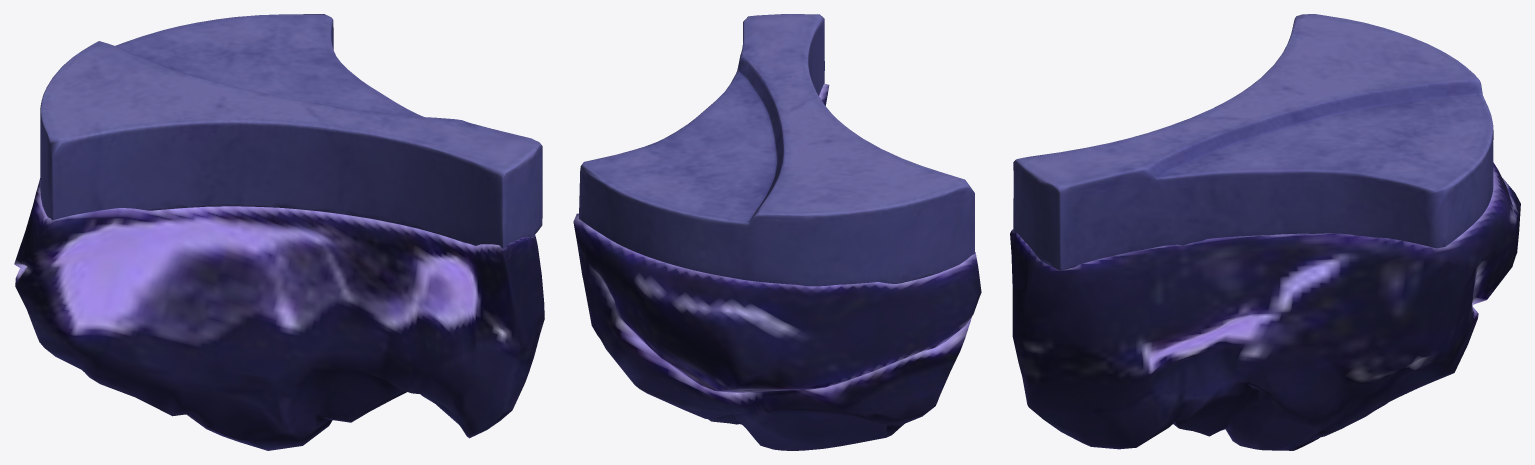
Rendered from sky_rock_02a1_nexus_v35.glb.
3 views of the same model, side by side, from view 1: azimuth 30°, elevation 25°; view 2: azimuth 150°, elevation 25°; view 3: azimuth 270°, elevation 25° (orthographic). The views are drawn at different scales.
Parts seen in each view (by area): view 1: rock_02a1; view 2: rock_02a1; view 3: rock_02a1.
Part boxes in pixels (x1,y1,x2,y2): rock_02a1: [14, 14, 544, 450]; rock_02a1: [573, 14, 981, 450]; rock_02a1: [1010, 14, 1520, 450].
Bounding box in the file's own units: 37.61 × 32.04 × 44.02.
Materials: 1 (1 with a texture image).
